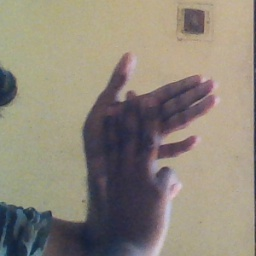M: (74, 51, 221, 214)
